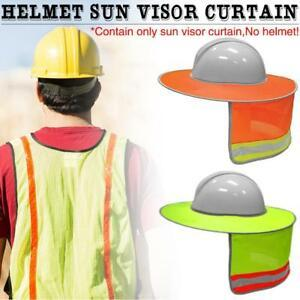helmet: (160, 169, 298, 235), (161, 40, 300, 102), (29, 28, 105, 81)
